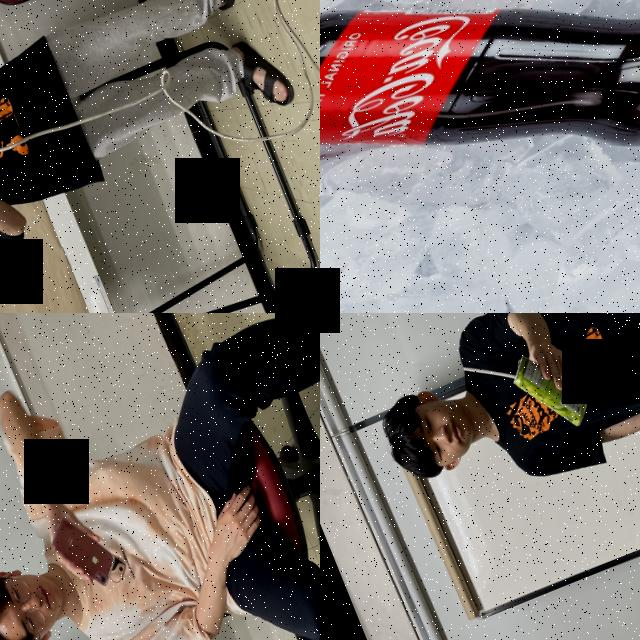bottle: (320, 0, 640, 313)
can: (504, 337, 596, 442)
